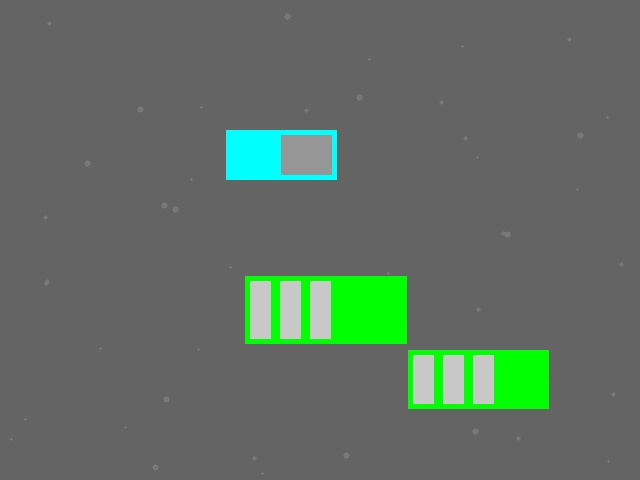bus: (245, 276, 406, 343), (408, 350, 548, 408)
truck: (226, 130, 336, 179)
